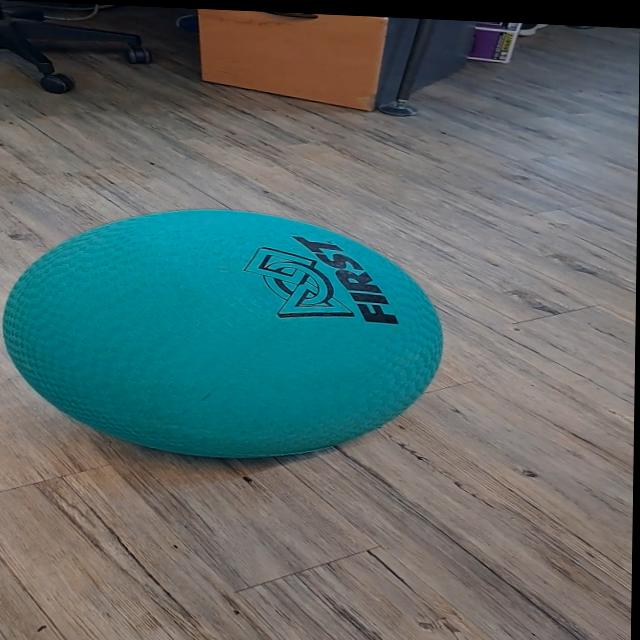ALGAE: (0, 197, 447, 469)
